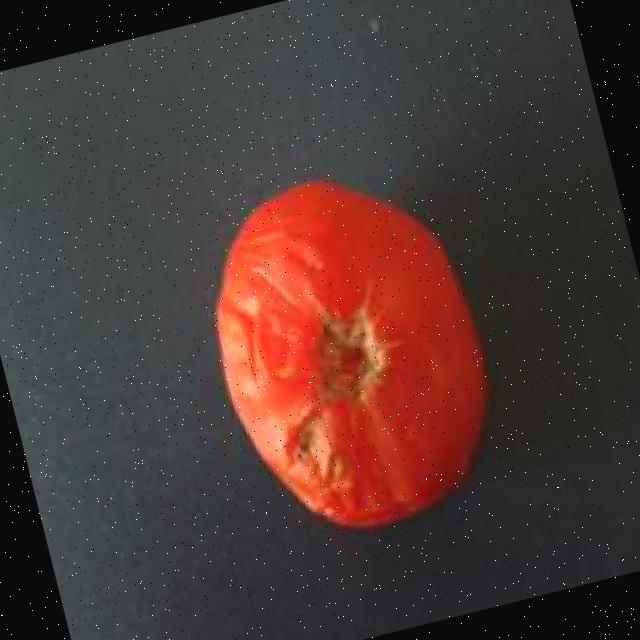overripe: (170, 144, 523, 563)
